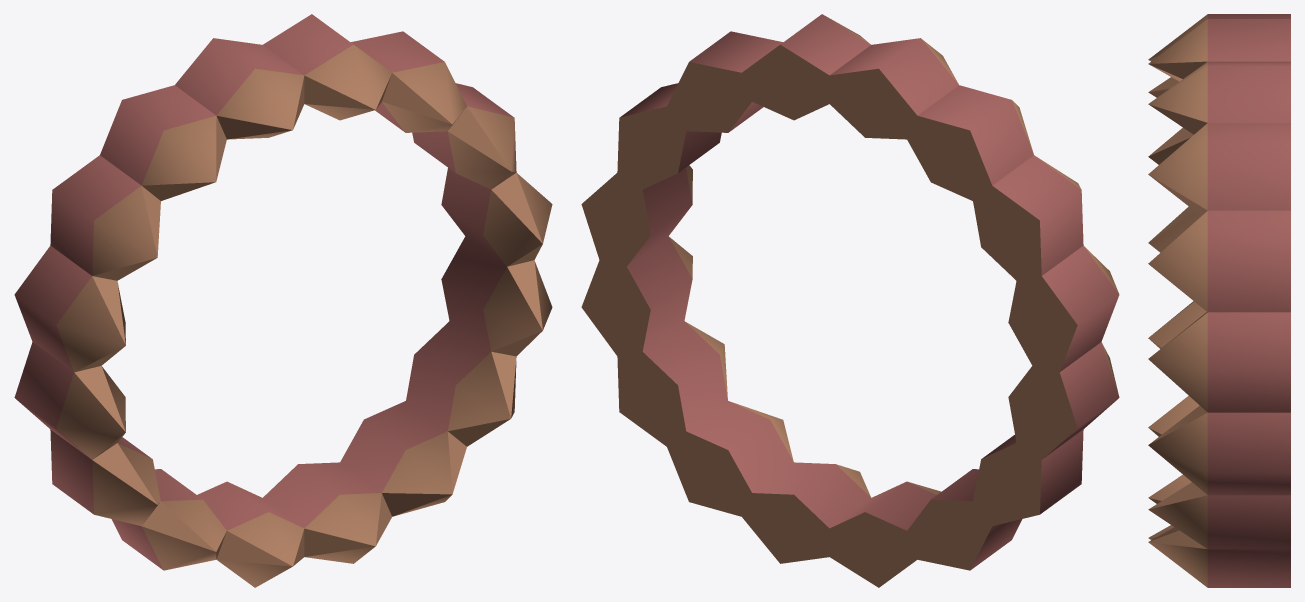
File: Visuals.fbx
3 views of the same model, side by side, from view 1: azimuth 30°, elevation 25°; view 2: azimuth 150°, elevation 25°; view 3: azimuth 270°, elevation 25° (orthographic).
Parts seen in each view (by area): view 1: pTorus1; view 2: pTorus1; view 3: pTorus1.
Part boxes in pixels (x1,y1,x2,y2): pTorus1: [14, 14, 552, 587]; pTorus1: [581, 14, 1119, 587]; pTorus1: [1148, 14, 1290, 587].
Bounding box in the file's own units: 5.13 × 5.13 × 1.29.
